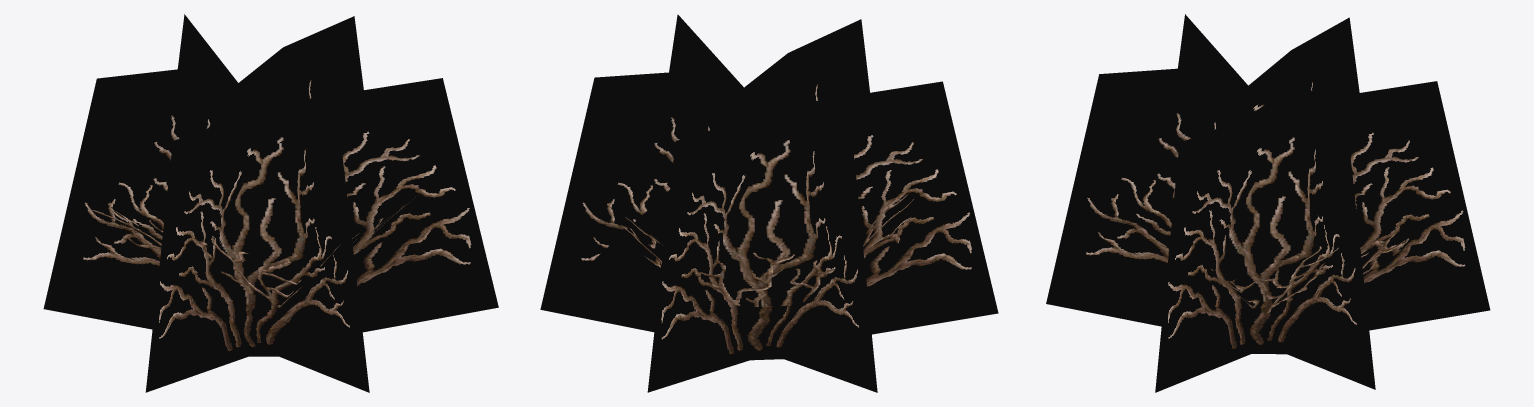
The model's file is oas_tarim_trebush03_01.glb.
3 renders of one model, left to right at view 1: azimuth 30°, elevation 25°; view 2: azimuth 150°, elevation 25°; view 3: azimuth 270°, elevation 25°, orthographic.
Parts seen in each view (by area): view 1: Oas_tarim_trebush03_01, Oas_tarim_trebush03_02; view 2: Oas_tarim_trebush03_01, Oas_tarim_trebush03_02; view 3: Oas_tarim_trebush03_01, Oas_tarim_trebush03_02.
Part boxes in pixels (x1=…): Oas_tarim_trebush03_01: x1=43, y1=14, x2=498, y2=392; Oas_tarim_trebush03_02: x1=91, y1=192, x2=421, y2=307; Oas_tarim_trebush03_01: x1=540, y1=14, x2=998, y2=392; Oas_tarim_trebush03_02: x1=624, y1=194, x2=913, y2=307; Oas_tarim_trebush03_01: x1=1046, y1=14, x2=1490, y2=392; Oas_tarim_trebush03_02: x1=1153, y1=220, x2=1409, y2=314.
Size of the model in its own units: 3.54 by 2.19 by 3.54.
2 materials, 2 textured.
